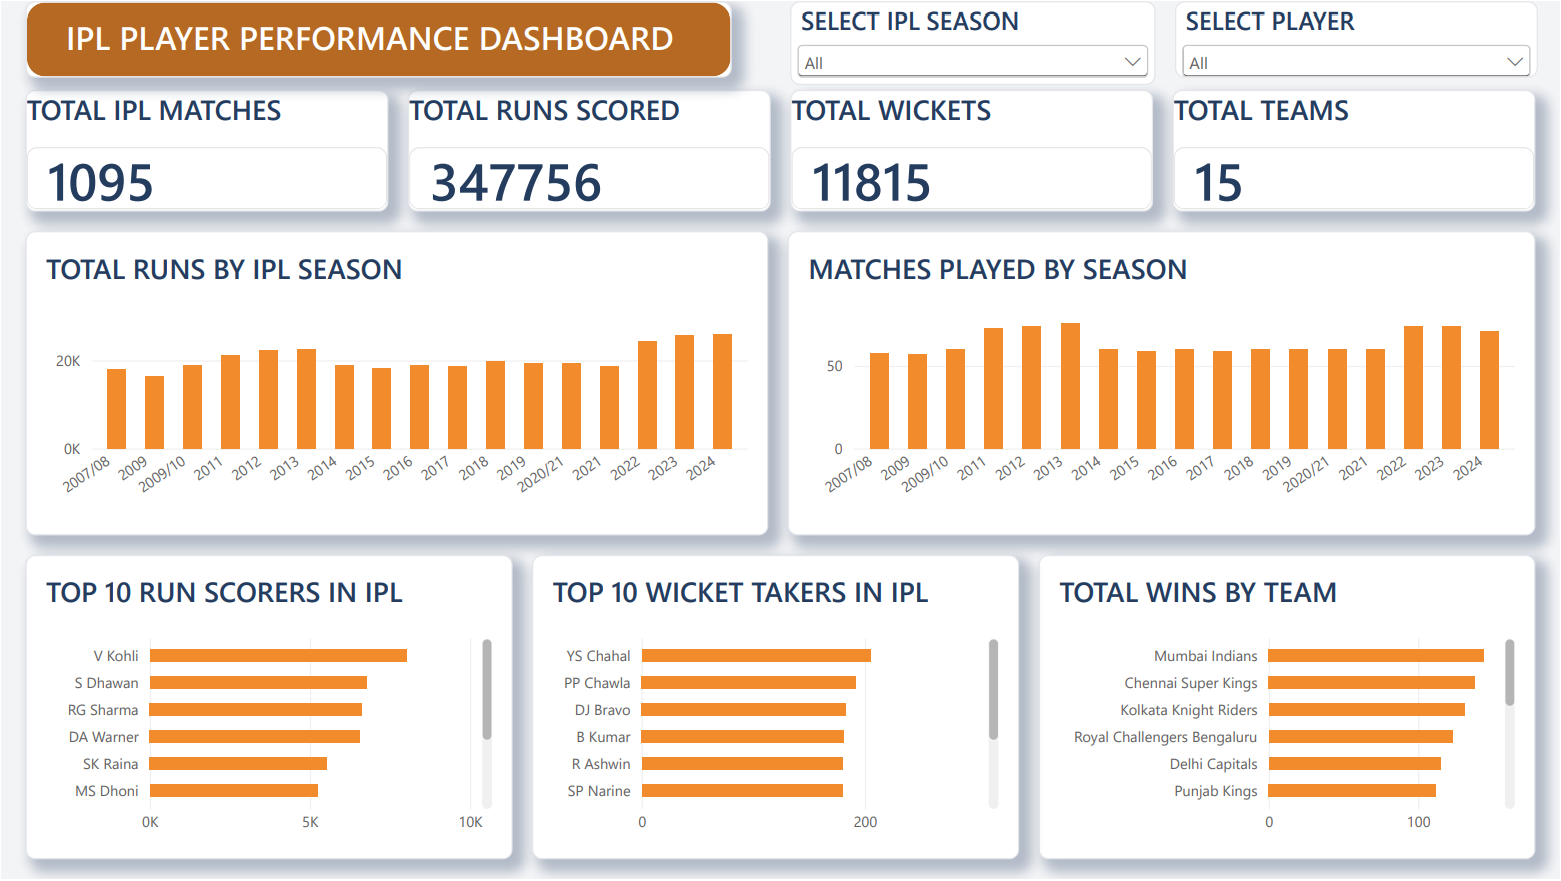

Layout of this report page (visuals, bound fields, positions):
{"tool":"powerbi","page":{"name":"IPL Overview","canvas":[1280,720],"ordinal":0},"visuals":[{"type":"cardVisual","title":"TOTAL IPL MATCHES","fields":{"Data":["Sum(VW_SEASON_MATCH_COUNTS.MATCHES_PLAYED)"]},"box":[20,72,298,100],"z":0},{"type":"cardVisual","title":"TOTAL RUNS SCORED","fields":{"Data":["Sum(VW_SEASON_RUNS.TOTAL_RUNS)"]},"box":[334,72,298,100],"z":1000},{"type":"cardVisual","title":"TOTAL WICKETS","fields":{"Data":["Sum(VW_SEASON_BOWLING.WICKETS)"]},"box":[648,72,298,100],"z":2000},{"type":"cardVisual","title":"TOTAL TEAMS","fields":{"Data":["Count(VW_DIM_TEAM.TEAM_NAME)"]},"box":[962,72,298,100],"z":3000},{"type":"clusteredColumnChart","title":"TOTAL RUNS BY IPL SEASON","fields":{"Category":["VW_SEASON_RUNS.SEASON"],"Y":["Sum(VW_SEASON_RUNS.TOTAL_RUNS)"]},"box":[20,188,610,250],"z":4000},{"type":"clusteredColumnChart","title":"MATCHES PLAYED BY SEASON","fields":{"Category":["VW_SEASON_MATCH_COUNTS.SEASON"],"Y":["Sum(VW_SEASON_MATCH_COUNTS.MATCHES_PLAYED)"]},"box":[646,188,614,250],"z":5000},{"type":"clusteredBarChart","title":"TOTAL WINS BY TEAM","fields":{"Category":["VW_TEAM_WINS.TEAM_NAME"],"Y":["Sum(VW_TEAM_WINS.TOTAL_WINS)"]},"box":[852,454,408,250],"z":6000},{"type":"clusteredBarChart","title":"TOP 10 RUN SCORERS IN IPL","fields":{"Category":["VW_PLAYER_BATTING.BATTER"],"Y":["Sum(VW_PLAYER_BATTING.RUNS)"]},"box":[20,454,400,250],"z":7000},{"type":"clusteredBarChart","title":"TOP 10 WICKET TAKERS IN IPL","fields":{"Category":["VW_PLAYER_BOWLING.BOWLER"],"Y":["Sum(VW_PLAYER_BOWLING.WICKETS)"]},"box":[436,454,400,250],"z":8000},{"type":"slicer","title":"SELECT IPL SEASON","fields":{"Values":["VW_DIM_SEASON.SEASON"]},"box":[648,0,300,68],"z":9000},{"type":"shape","box":[19.8,0,580.2,61.6],"z":10000},{"type":"slicer","fields":{"Values":["VW_DIM_PLAYER.PLAYER_NAME"]},"box":[964,0,298,62],"z":11000},{"type":"textbox","box":[24,10,620,36],"z":14000}]}

Visuals, with their boxes in screenshot pixels (x1, y1, x2, y2), scaled from the page's 1280x720 canvas onto the 1561x881 screenshot:
"TOTAL IPL MATCHES" cardVisual: locate(24, 88, 388, 210)
"TOTAL RUNS SCORED" cardVisual: locate(407, 88, 771, 210)
"TOTAL WICKETS" cardVisual: locate(790, 88, 1154, 210)
"TOTAL TEAMS" cardVisual: locate(1173, 88, 1537, 210)
"TOTAL RUNS BY IPL SEASON" clusteredColumnChart: locate(24, 230, 768, 536)
"MATCHES PLAYED BY SEASON" clusteredColumnChart: locate(788, 230, 1537, 536)
"TOTAL WINS BY TEAM" clusteredBarChart: locate(1039, 556, 1537, 861)
"TOP 10 RUN SCORERS IN IPL" clusteredBarChart: locate(24, 556, 512, 861)
"TOP 10 WICKET TAKERS IN IPL" clusteredBarChart: locate(532, 556, 1020, 861)
"SELECT IPL SEASON" slicer: locate(790, 0, 1156, 83)
shape: locate(24, 0, 732, 75)
slicer - VW_DIM_PLAYER.PLAYER_NAME: locate(1176, 0, 1539, 76)
textbox: locate(29, 12, 785, 56)
